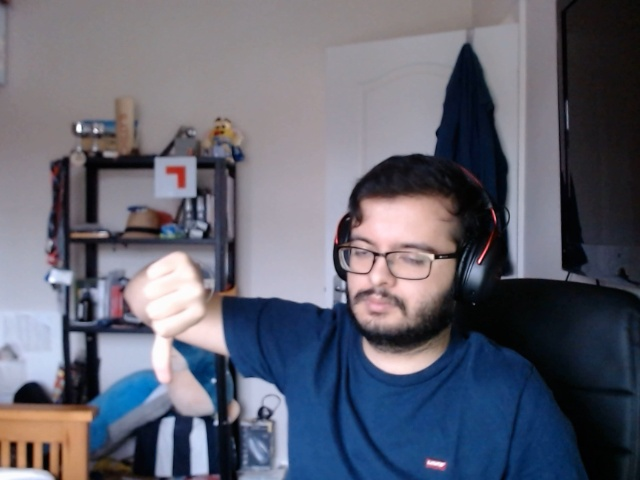Thumbs down: (123, 244, 220, 396)
